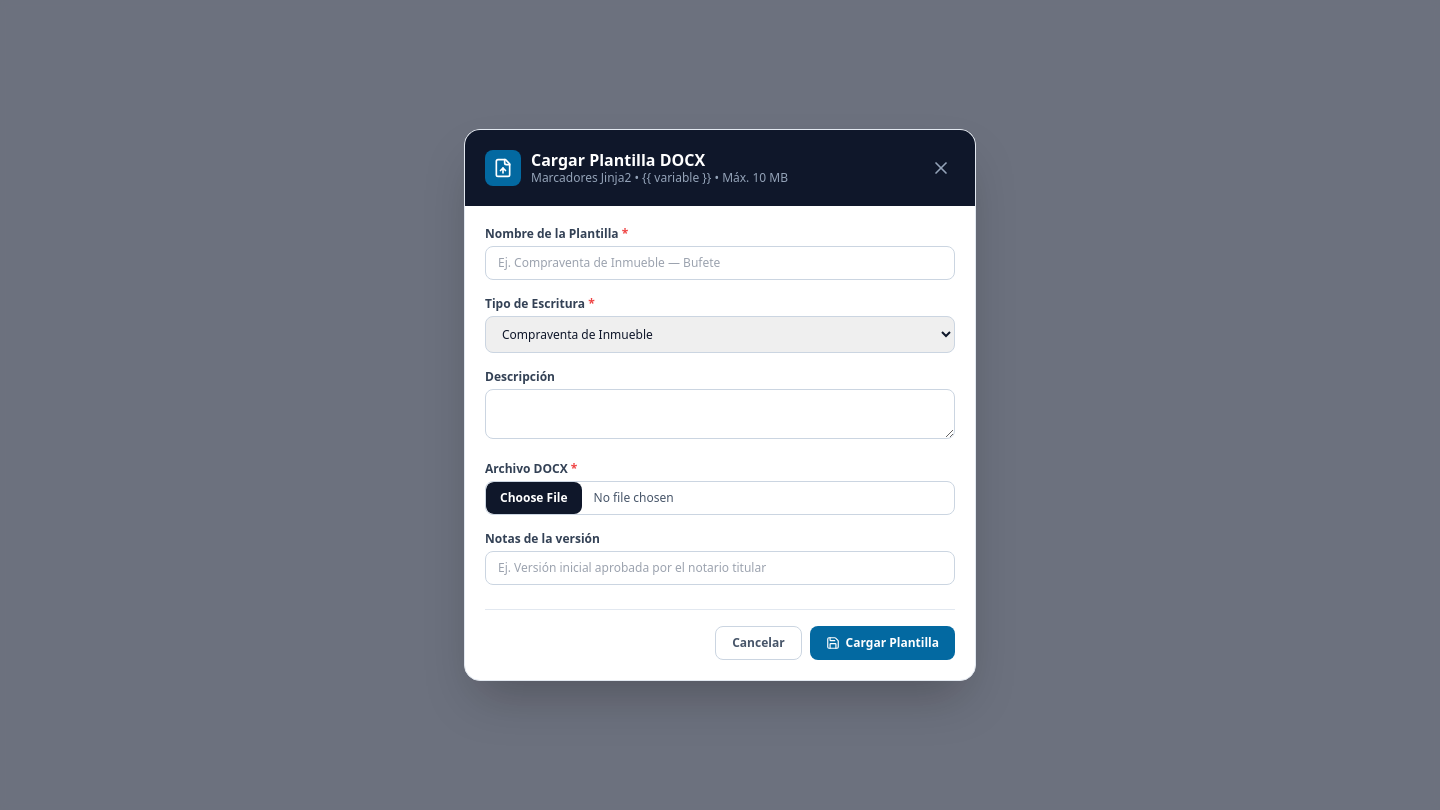
Test: TemplateUploadModal › muestra errores al enviar sin nombre ni archivo
Click the button "Cargar Plantilla".
click(882, 643)  # box [810,626,955,660]
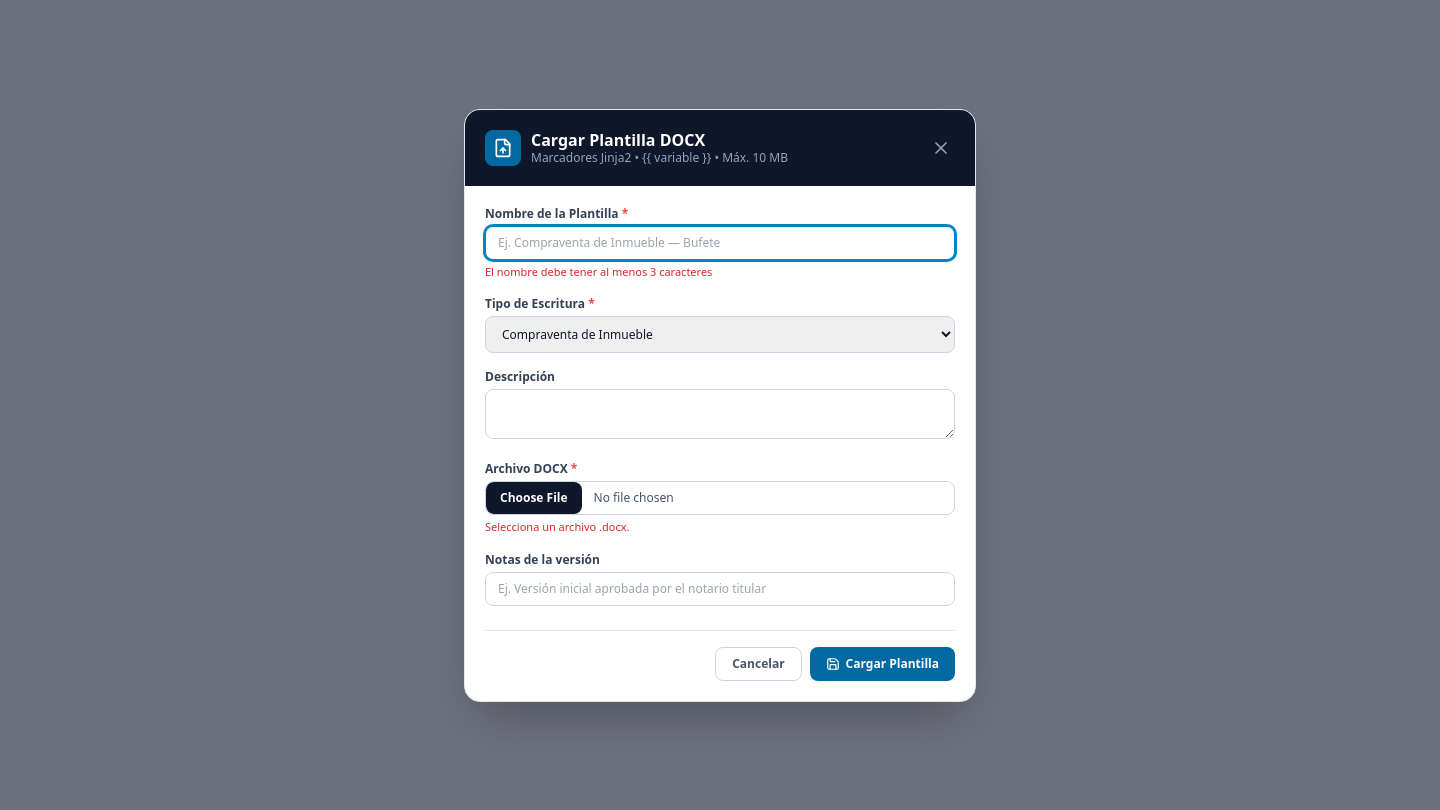
Result: the text "El nombre debe tener al menos 3 caracteres" is shown at [485,264,712,278]
Result: the text "Selecciona un archivo .docx." is shown at [485,519,630,534]
